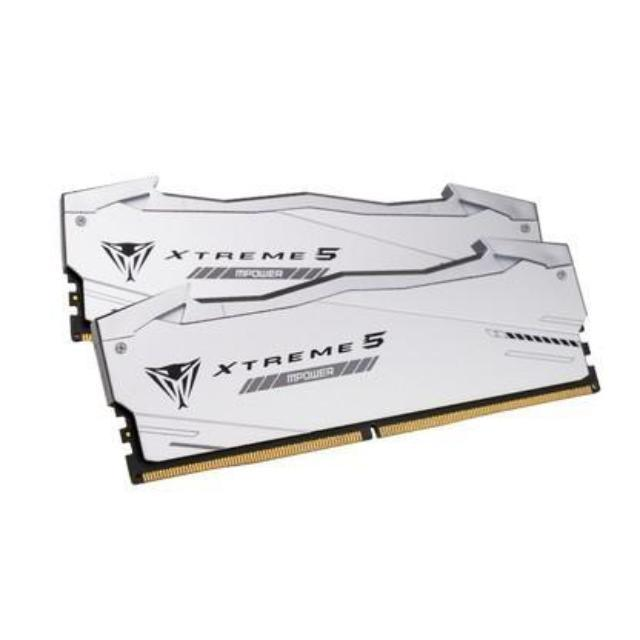RAM: (54, 168, 609, 500)
